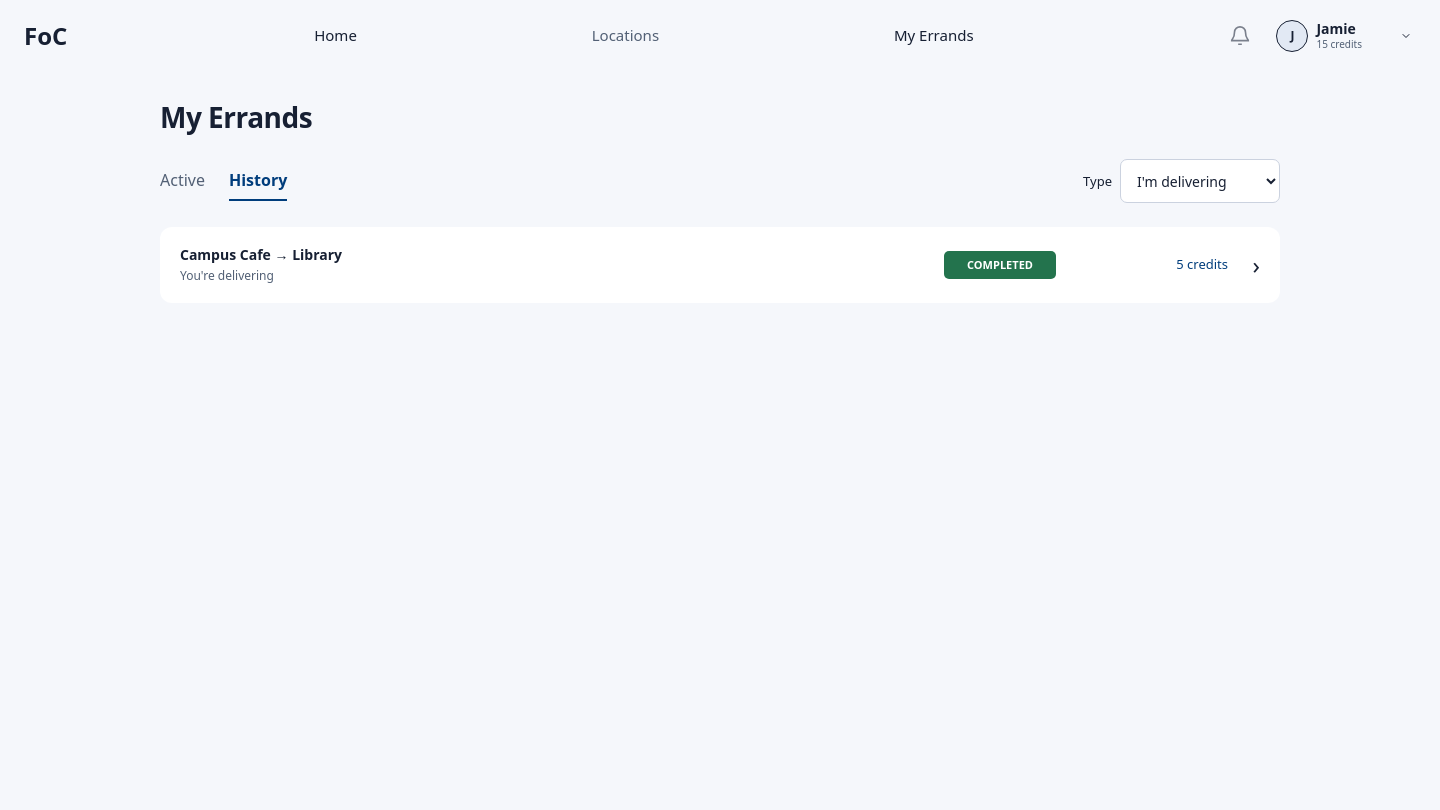
Test: displays fresh payment state SETTLEMENT_PENDING without a pickup action
This screenshot has width=1440, height=810.
Click the link that starts with "Campus Cafe".
click(225, 254)  # box [160, 227, 1280, 303]
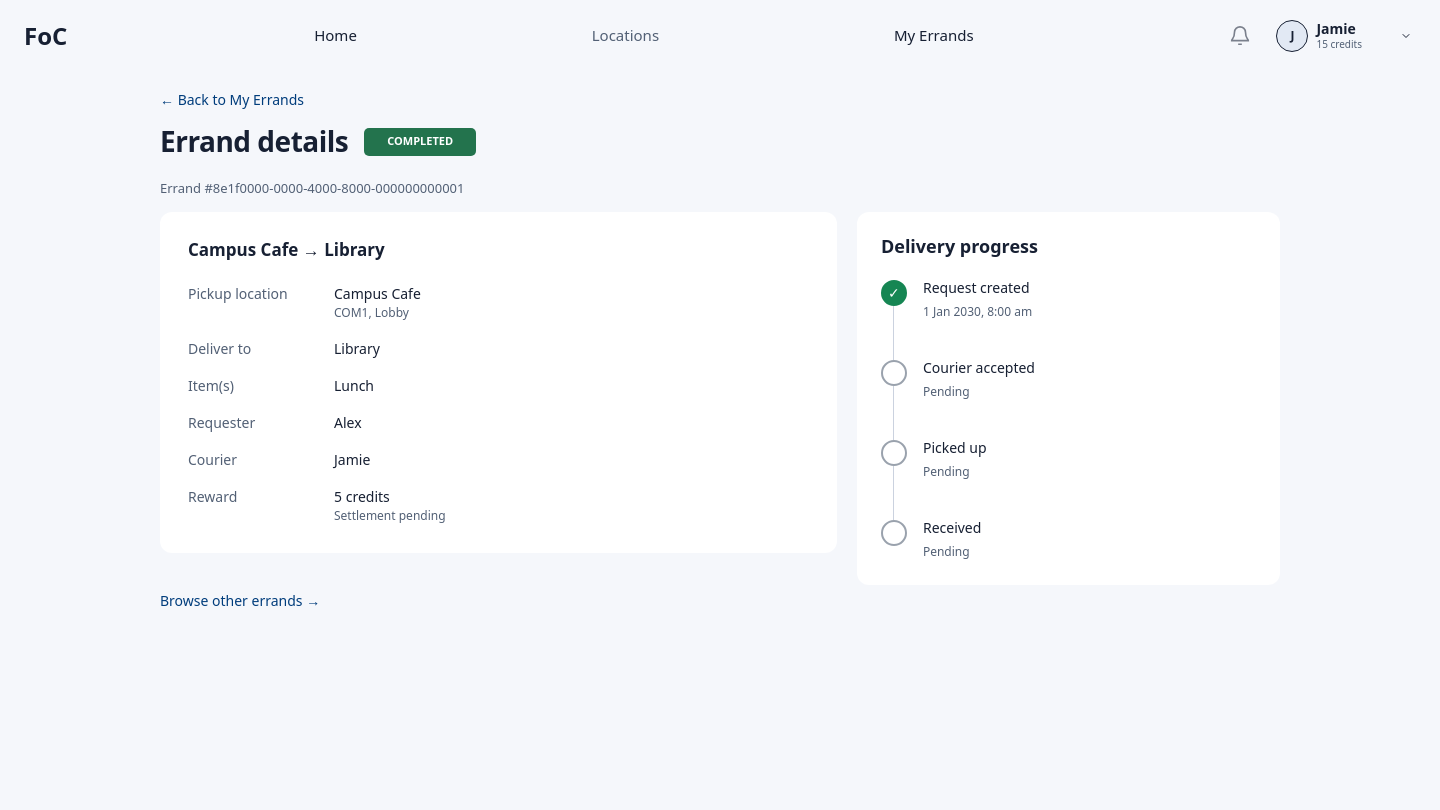
Now the text "COM1, Lobby" is shown, box [334, 304, 409, 321]
Now the text "Settlement pending" is shown, box [334, 507, 446, 524]
